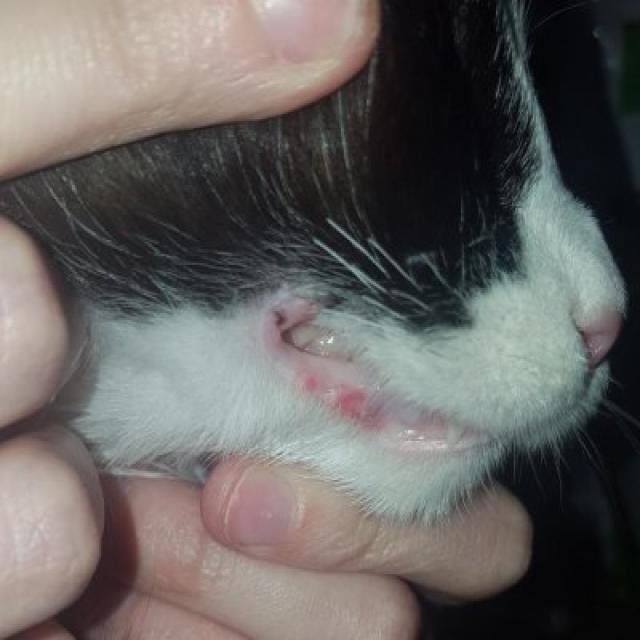cat-ulcer: (294, 360, 368, 400)
